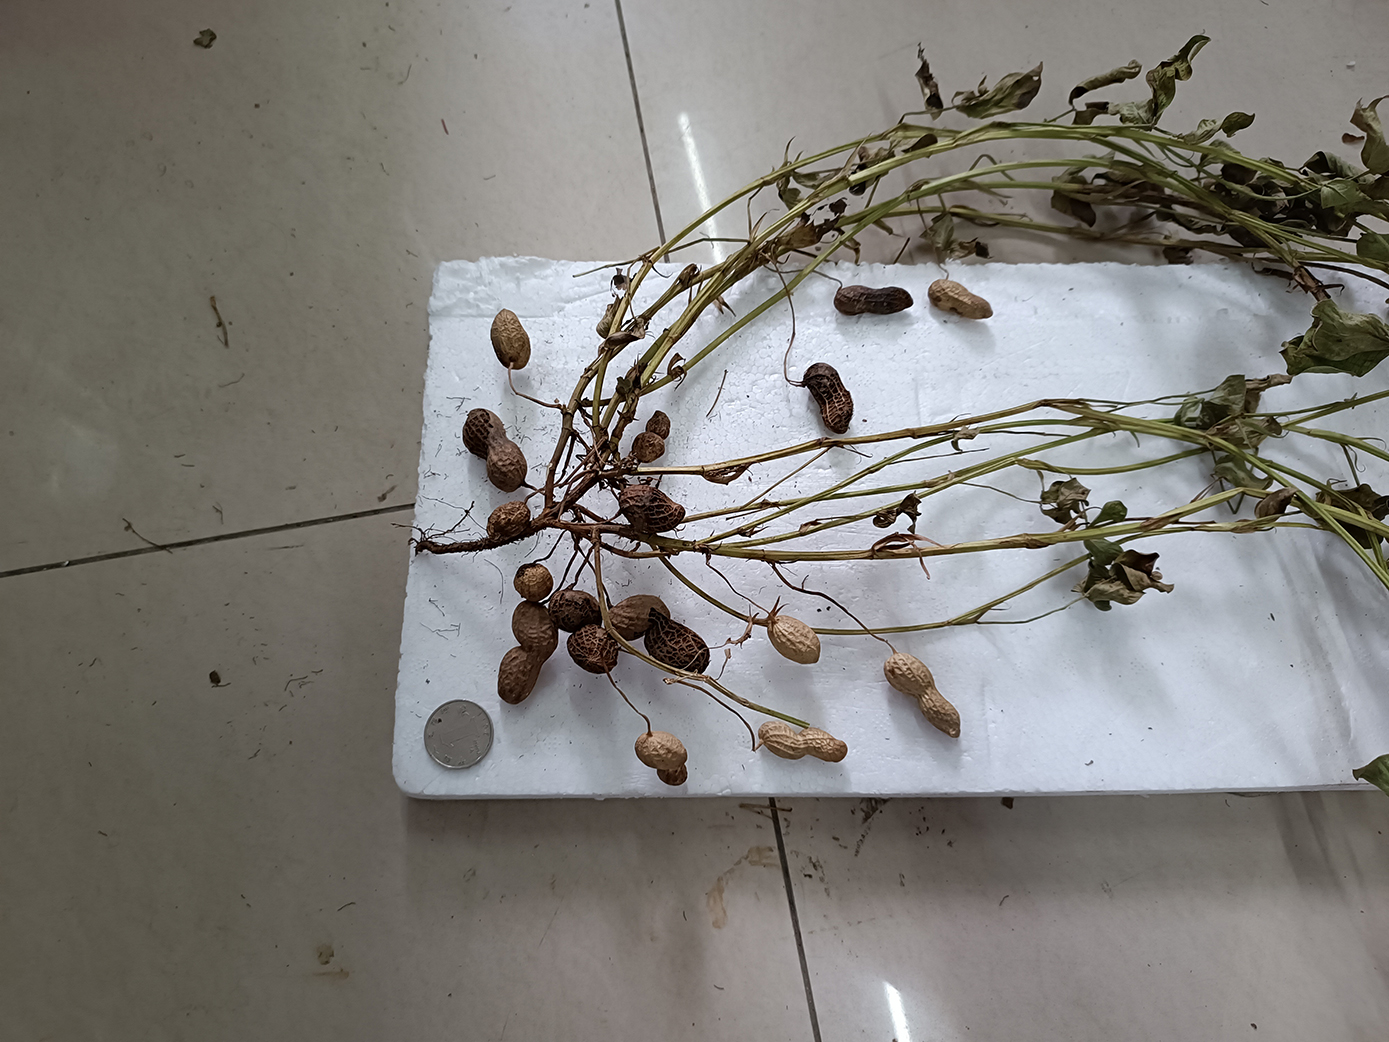h: (883, 652, 961, 738), (497, 600, 558, 705), (759, 720, 848, 763), (634, 730, 688, 786), (766, 614, 821, 665), (927, 279, 993, 319), (490, 308, 531, 370), (514, 563, 554, 601)
l: (607, 595, 710, 675), (549, 590, 618, 674), (461, 407, 526, 493), (803, 362, 854, 435), (618, 484, 686, 533), (833, 283, 914, 316), (630, 409, 671, 464), (486, 500, 531, 543)
